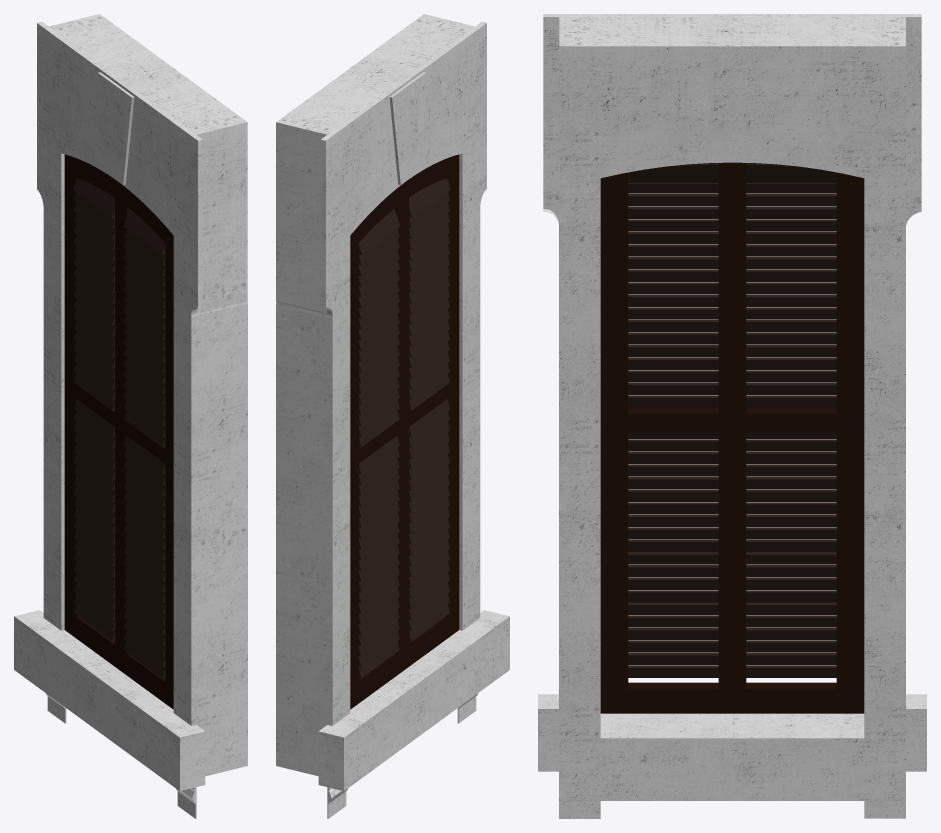
The picture shows the model from 3 angles, left to right: view 1: azimuth 30°, elevation 25°; view 2: azimuth 150°, elevation 25°; view 3: azimuth 270°, elevation 25°; orthographic projection. The views are drawn at different scales.
Visible parts, largest first — view 1: object 1, Component#27 (×74), object 2, object 4, object 3; view 2: object 1, Component#27 (×74), object 2, object 4, object 3; view 3: object 1, Component#27 (×74), object 2, object 3, object 4.
Part boxes in pixels (x1,y1,x2,y2): object 1: [14, 14, 247, 818]; Component#27 (×74): [74, 202, 165, 678]; object 2: [64, 154, 173, 709]; object 4: [123, 208, 165, 255]; object 3: [73, 178, 114, 218]; object 1: [276, 14, 509, 818]; Component#27 (×74): [358, 202, 449, 678]; object 2: [350, 154, 459, 709]; object 4: [409, 178, 450, 218]; object 3: [358, 208, 400, 254]; object 1: [538, 14, 926, 818]; Component#27 (×74): [628, 183, 836, 677]; object 2: [600, 162, 864, 713]; object 3: [746, 163, 836, 182]; object 4: [628, 163, 718, 182].
Size of the model in its own units: 0.3 by 2.55 by 1.12.
Materials: 3 (1 with a texture image).
